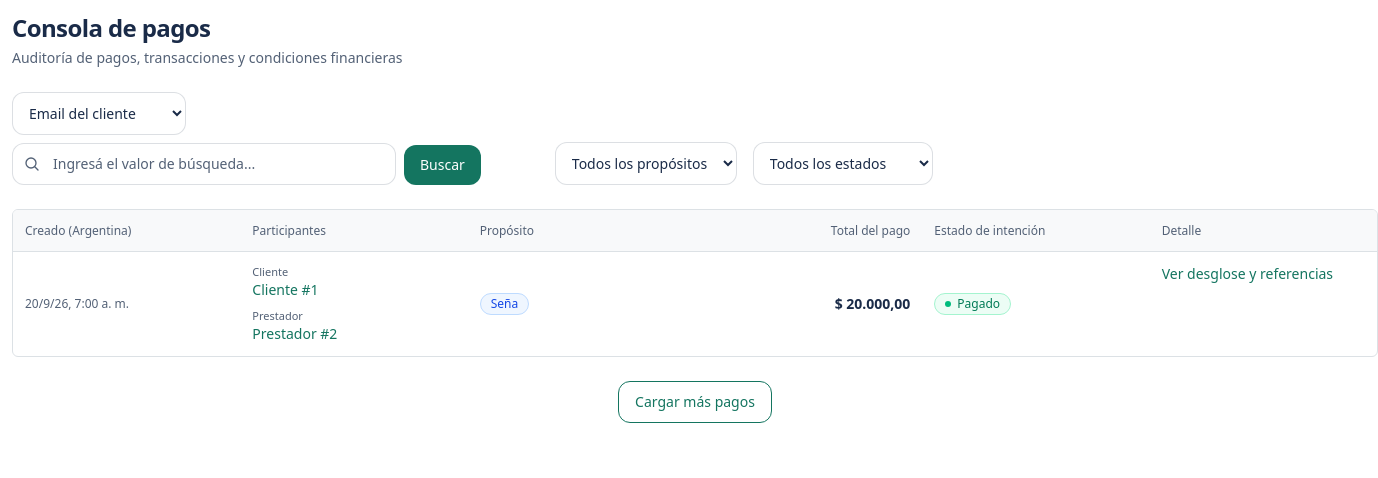
Test: PaymentsPageClient › loads the next cursor page without repeating existing payment IDs
Expected: the button "Ver desglose y referencias" is shown, [1162,264,1333,284]
Click the button "Cargar más pagos" at point(695, 402), box [618,380,772,422]
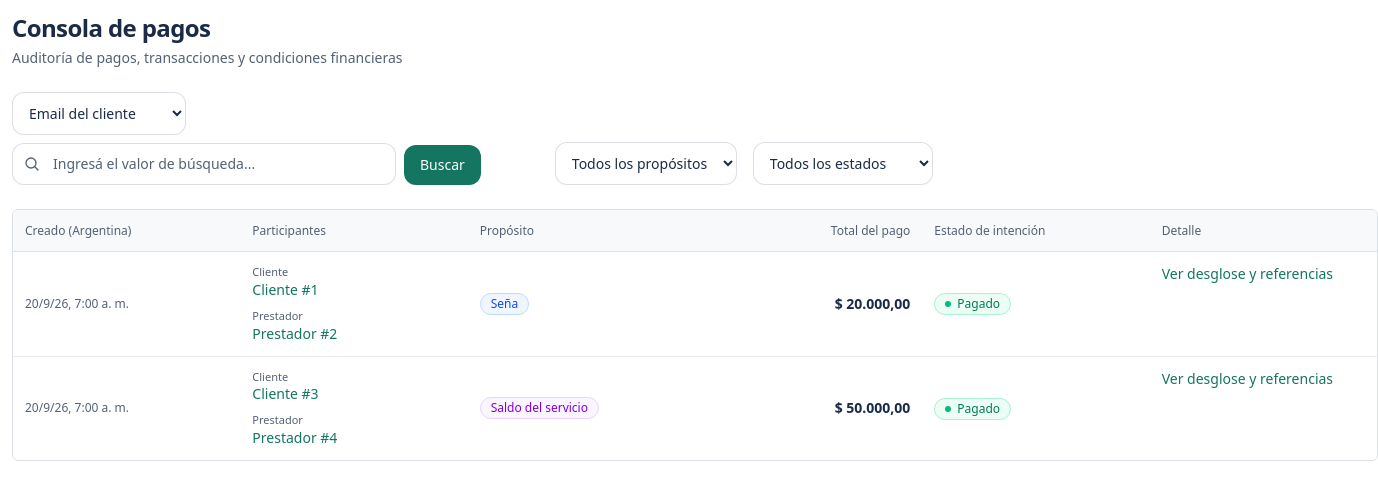
Expected: the number of links "Cliente #1" is 1, [252,280,319,299]
Now the number of buttons "Ver desglose y referencias" is 2, box [1162,264,1333,284]; [1162,368,1333,388]
Now the link "Cliente #3" is shown, box [252,384,319,403]
